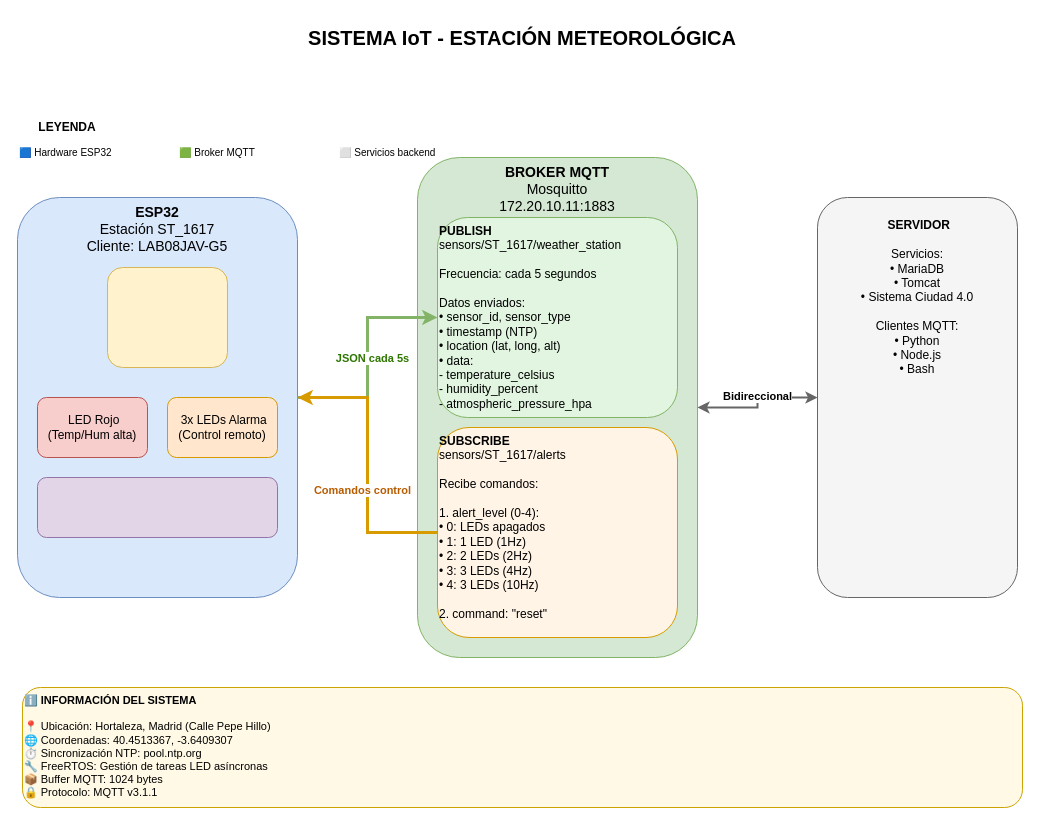
Some shapes in this 1040 by 825 pixel diagram are drawn without their labels. Each missing label, with the centre of its shape:
BME280 Temperatura: °C Humedad: % Presión: hPa Altitud: m: point 167,317
Display 7-seg (Nivel alerta): point 157,507
